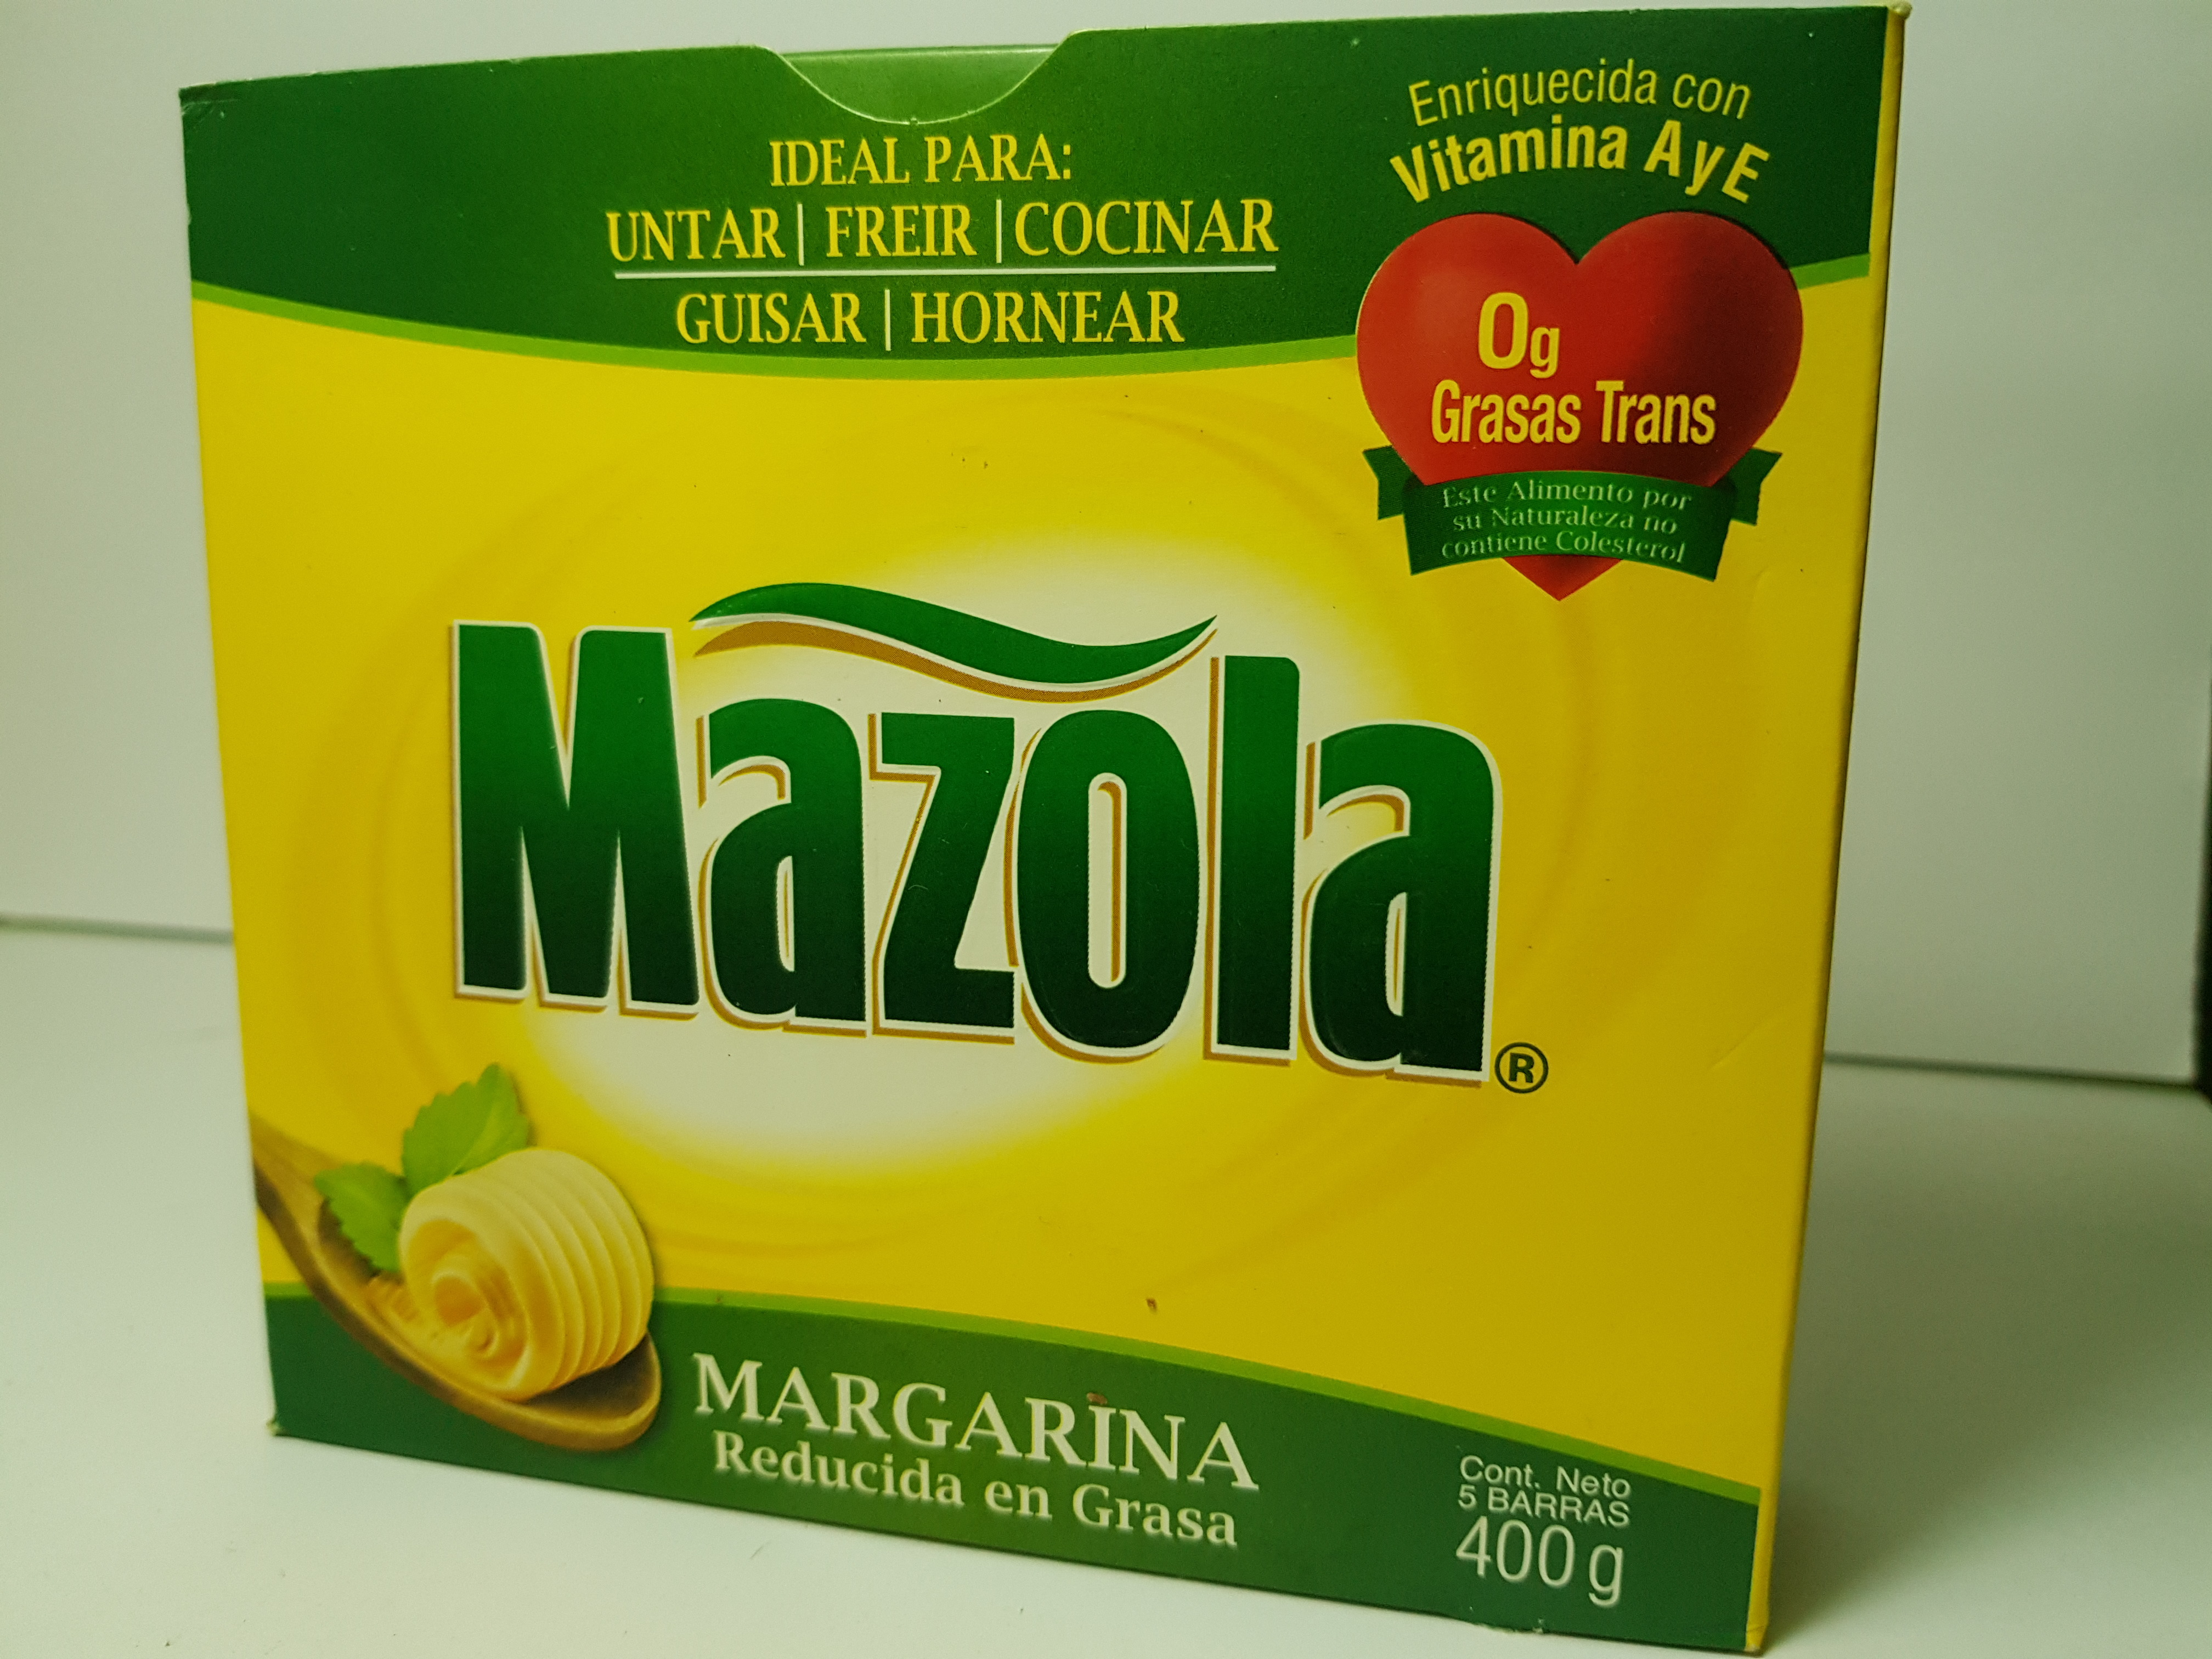mazola: (174, 0, 1898, 1656)
